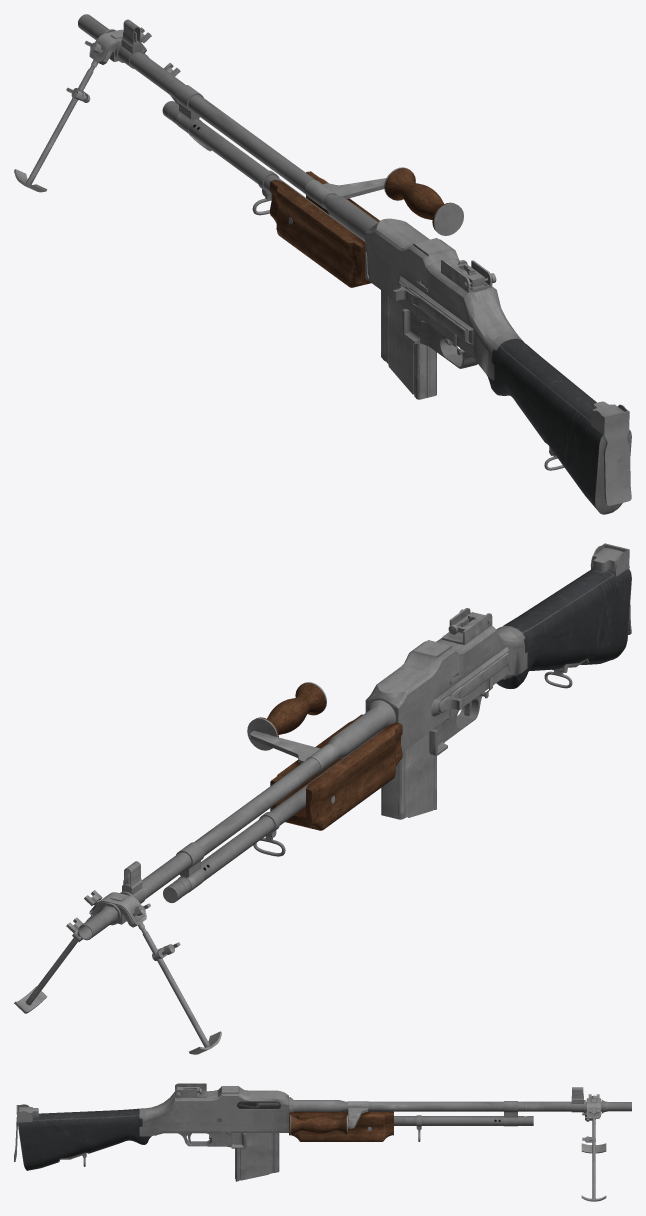
File: bar-m1918.glb
3 renders of one model, top to bottom at view 1: azimuth 30°, elevation 25°; view 2: azimuth 150°, elevation 25°; view 3: azimuth 270°, elevation 25°, orthographic. The views are drawn at different scales.
Parts seen in each view (by area): view 1: body, Grip, magazine, Bipod, sight, bolt-handle; view 2: body, Bipod, Grip, magazine, sight, bolt-handle; view 3: body, magazine, Grip, Bipod, sight, reciever.
Boxes of the visible parts, box(x1,y1,x2,y2) form: body: box(78, 14, 631, 514); Grip: box(304, 167, 463, 235); magazine: box(381, 290, 436, 399); Bipod: box(14, 27, 211, 192); sight: box(441, 259, 496, 292); bolt-handle: box(393, 281, 468, 341); body: box(78, 543, 631, 940); Bipod: box(14, 890, 221, 1054); Grip: box(247, 682, 338, 773); magazine: box(381, 732, 436, 819); sight: box(442, 608, 492, 644); bolt-handle: box(438, 652, 508, 712); body: box(14, 1086, 631, 1170); magazine: box(235, 1133, 279, 1181); Grip: box(290, 1101, 368, 1134); Bipod: box(581, 1094, 606, 1201); sight: box(175, 1083, 206, 1097); reciever: box(237, 1101, 280, 1108).
Bounding box in the file's own units: 22.88 × 18.08 × 110.
Materials: 11 (11 with a texture image).
